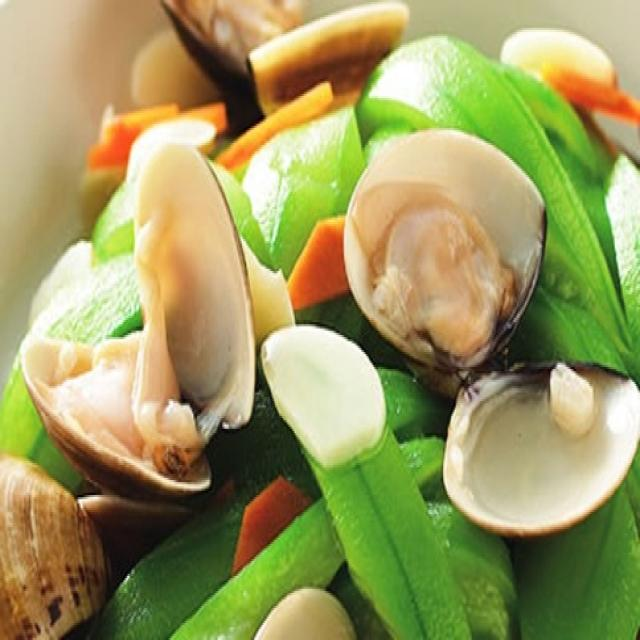Wet: (27, 13, 619, 620)
